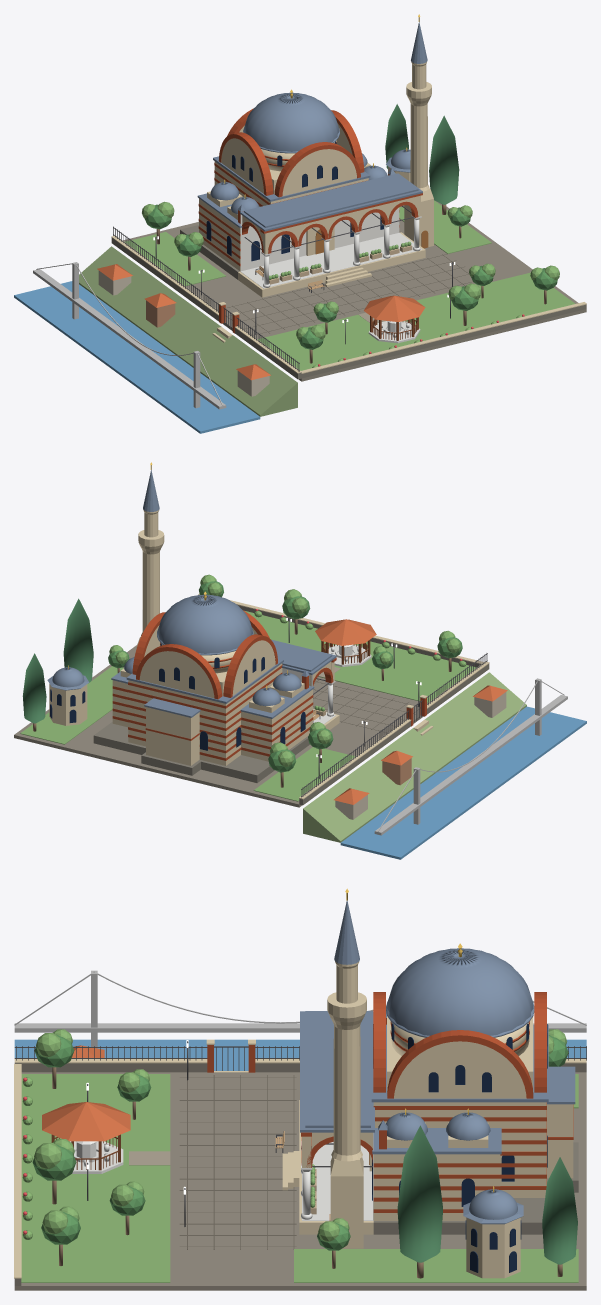
File: rumi.glb
3 renders of one model, top to bottom at view 1: azimuth 30°, elevation 25°; view 2: azimuth 150°, elevation 25°; view 3: azimuth 270°, elevation 25°, orthographic. The views are drawn at different scales.
Parts seen in each view (by area): view 1: Avlu_Zemin, Bogaz, Yamac, On_Bahce, Kubbe, Revak_Cati_Sirt, Revak_Ic_Siva, Revak_Zemin, Sol_Arka_Cimen, Selvi0_Tepe, Alinlik_On, Kopru_Tabliye (+19 smaller); view 2: Bogaz, Yamac, Avlu_Zemin, On_Bahce, Kubbe, Harim_Govde, Mihrap_Govde, Sol_Arka_Cimen, Cami_Sokulu, Sag_Cimen, Kanat_Sol_Govde, Alinlik_Arka (+22 smaller); view 3: Avlu_Zemin, On_Bahce, Kubbe, Sag_Cimen, Alinlik_Sag, Selvi0_Tepe, Bogaz, Revak_Cati_Sirt, Harim_Govde, Minare_Govde, Kanat_Sag_Govde, Kopru_Tabliye (+36 smaller).
Part boxes in pixels (box(x1,y1,x2,y2)): Avlu_Zemin: box(123, 201, 586, 381); Bogaz: box(14, 281, 260, 433); Yamac: box(79, 246, 297, 416); On_Bahce: box(258, 272, 575, 370); Kubbe: box(244, 92, 339, 151); Revak_Cati_Sirt: box(244, 173, 418, 227); Revak_Ic_Siva: box(240, 207, 399, 271); Revak_Zemin: box(240, 232, 422, 288); Sol_Arka_Cimen: box(125, 232, 225, 285); Selvi0_Tepe: box(429, 115, 459, 204); Alinlik_On: box(282, 149, 356, 196); Kopru_Tabliye: box(33, 269, 226, 409); Bogaz: box(340, 706, 586, 859); Yamac: box(303, 672, 526, 842); Avlu_Zemin: box(14, 645, 427, 807); On_Bahce: box(245, 611, 476, 703); Kubbe: box(157, 594, 252, 653); Harim_Govde: box(128, 663, 282, 765); Mihrap_Govde: box(146, 707, 199, 765); Sol_Arka_Cimen: box(253, 747, 354, 801); Cami_Sokulu: box(93, 722, 309, 782); Sag_Cimen: box(20, 666, 123, 744); Kanat_Sol_Govde: box(241, 689, 312, 761); Alinlik_Arka: box(139, 651, 214, 698); Avlu_Zemin: box(14, 1072, 586, 1290); On_Bahce: box(21, 1074, 170, 1282); Kubbe: box(387, 948, 533, 1035); Sag_Cimen: box(294, 1249, 578, 1282); Alinlik_Sag: box(394, 1041, 526, 1098); Selvi0_Tepe: box(397, 1125, 442, 1262); Bogaz: box(14, 1039, 586, 1070); Revak_Cati_Sirt: box(305, 1011, 370, 1127); Harim_Govde: box(373, 1102, 546, 1197); Minare_Govde: box(331, 1025, 362, 1161); Kanat_Sag_Govde: box(373, 1154, 500, 1220); Kopru_Tabliye: box(14, 1023, 586, 1032).
Size of the model in its own units: 51.85 by 33.2 by 43.06.
